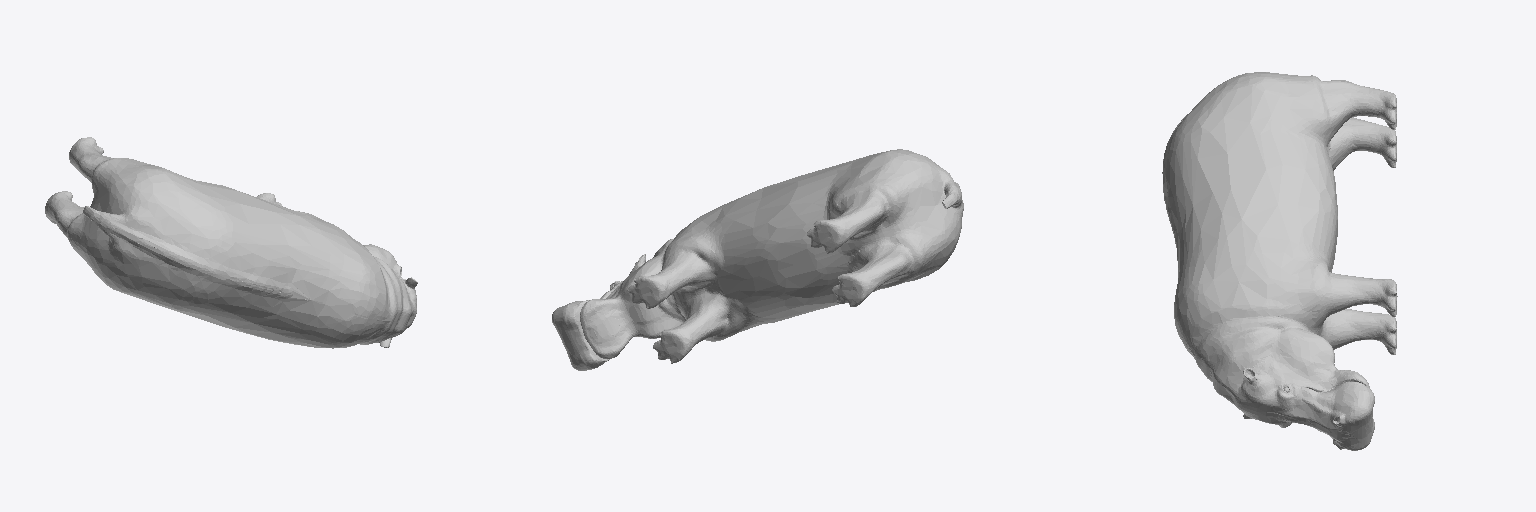
Rendered from hippo.obj.
The picture shows the model from 3 angles: view 1: azimuth 30°, elevation 25°; view 2: azimuth 150°, elevation 25°; view 3: azimuth 270°, elevation 25°; orthographic projection.
Bounding box in the file's own units: 1 × 0.6539 × 0.5754.